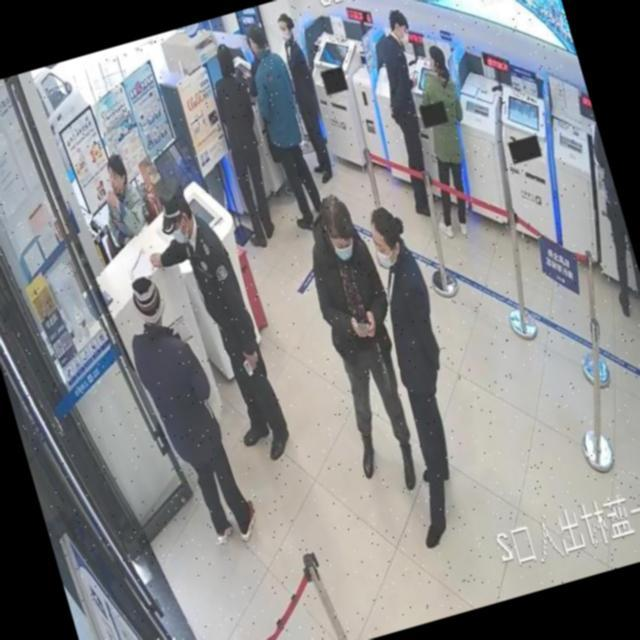person: (333, 193, 500, 549), (336, 196, 499, 548), (130, 173, 294, 477), (288, 190, 438, 499), (112, 262, 262, 558), (359, 5, 461, 221), (391, 39, 498, 242), (392, 39, 498, 240), (235, 20, 332, 235), (198, 43, 290, 249), (563, 102, 640, 322), (270, 9, 342, 185), (91, 150, 155, 248)
